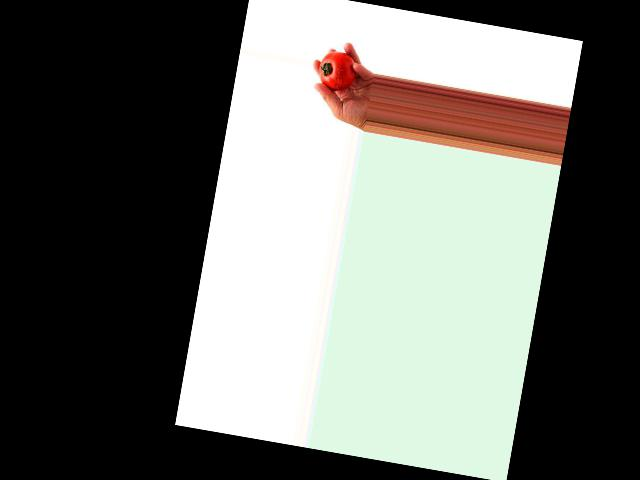tomato: (316, 48, 359, 93)
